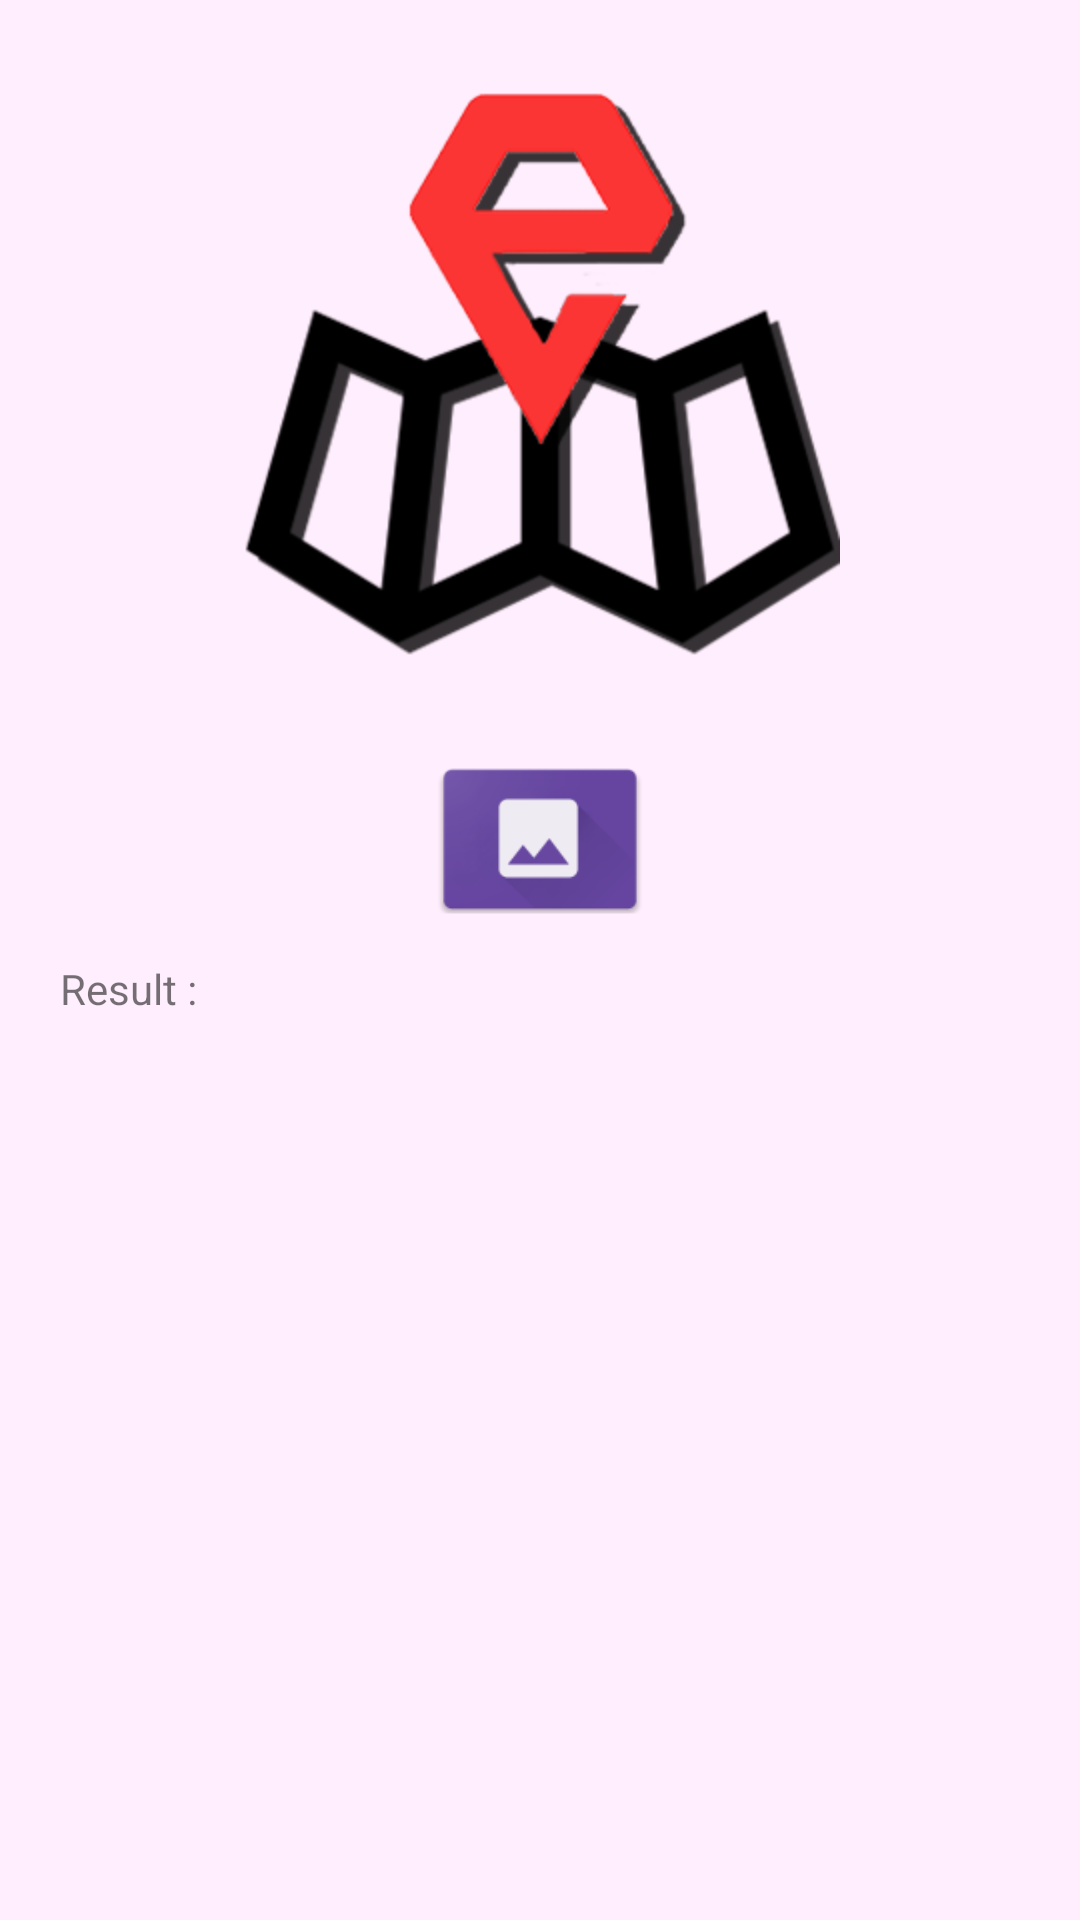

Icons on this 1080×1920 Android screen, each with its box as (x1, y1, x2, y2):
galary: (441, 768, 639, 913)
